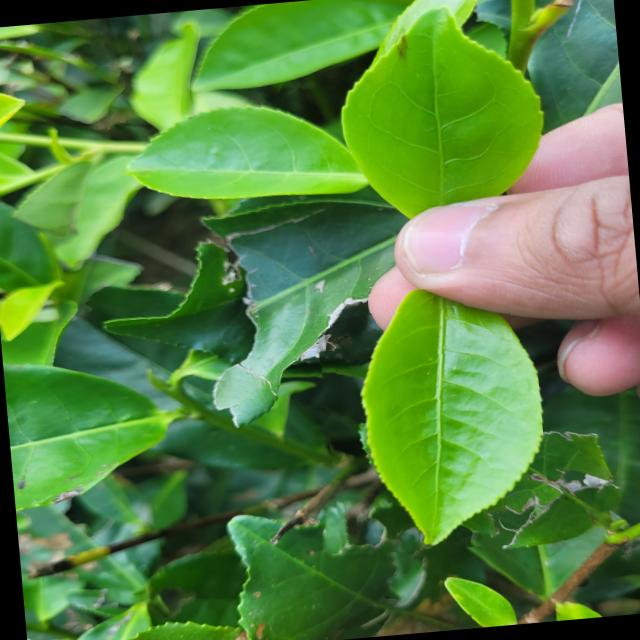Catagory A(1-2 days): (313, 280, 552, 560)
